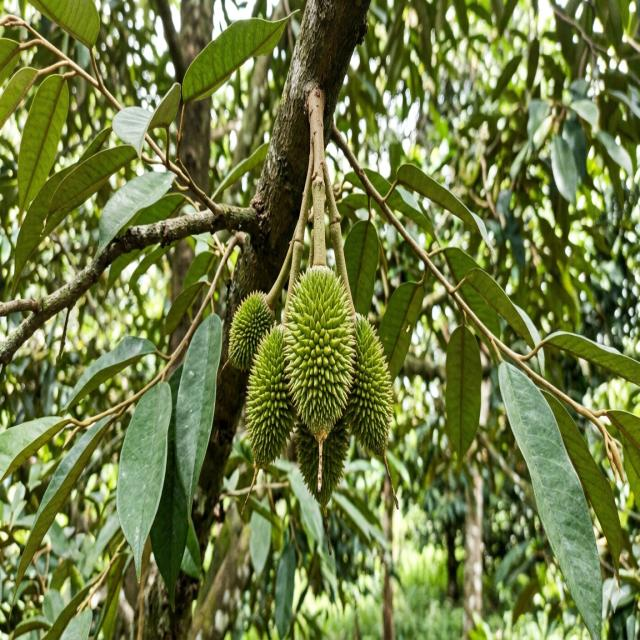immature: (282, 262, 357, 438), (244, 324, 296, 471), (342, 313, 393, 457), (230, 290, 276, 371)
